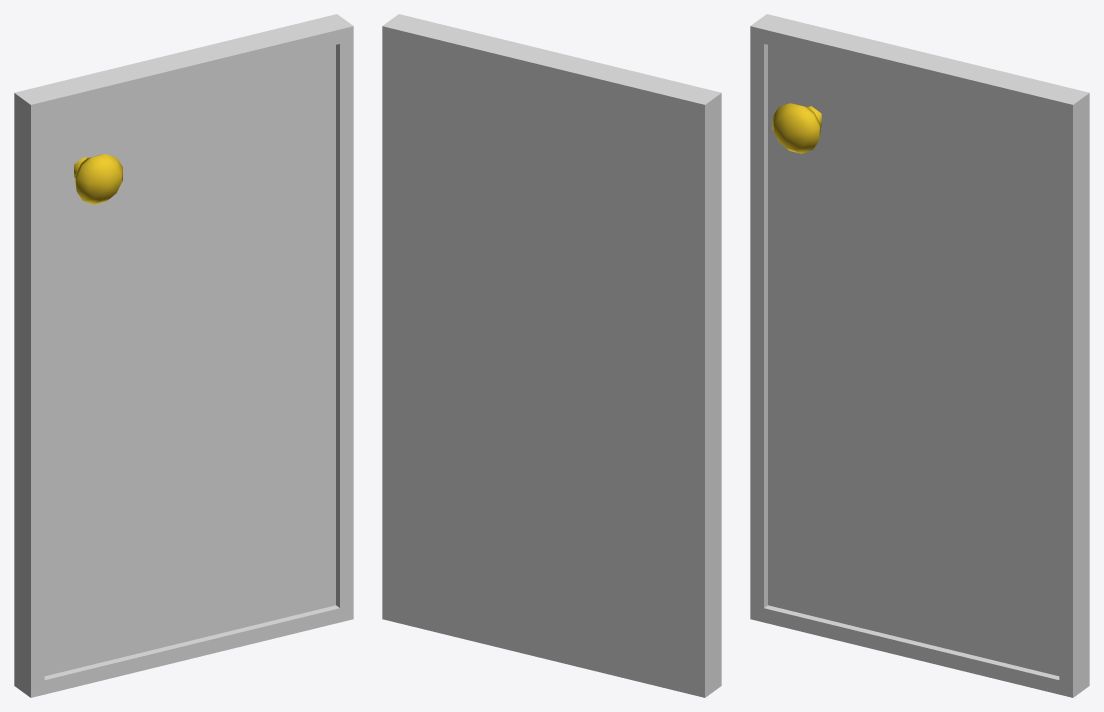
The model's file is counter_door.glb.
3 renders of one model, left to right at view 1: azimuth 30°, elevation 25°; view 2: azimuth 150°, elevation 25°; view 3: azimuth 330°, elevation 25°, orthographic.
Visible parts, largest first — view 1: Counter Door 1; view 2: Counter Door 1; view 3: Counter Door 1.
Part boxes in pixels (x1,y1,x2,y2): Counter Door 1: (14, 14, 353, 697); Counter Door 1: (382, 14, 721, 697); Counter Door 1: (750, 14, 1089, 697).
Size of the model in its own units: 0.4658 by 0.8174 by 0.0939.
Materials: 1 (1 with a texture image).
